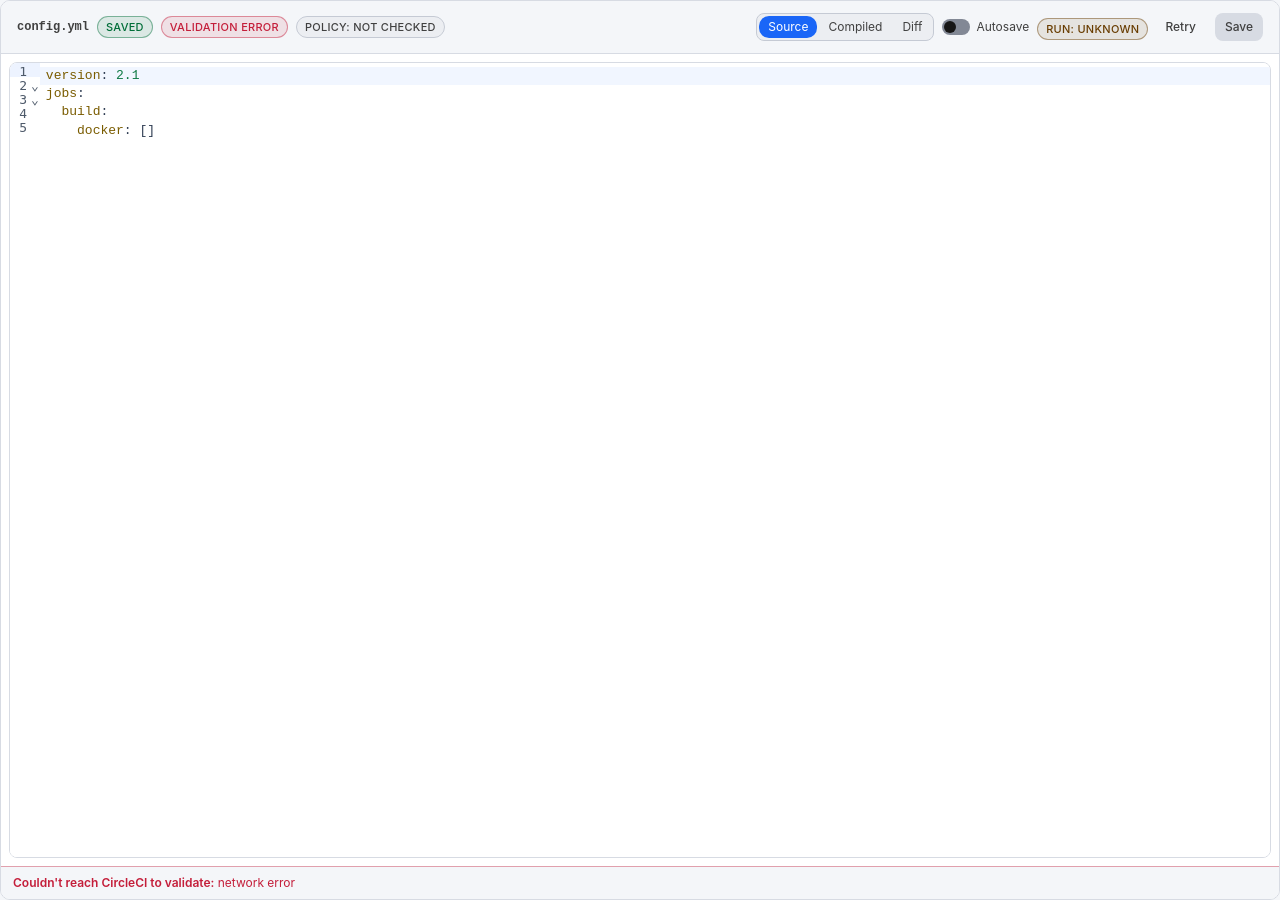
Test: YamlPane › reports a failed validation request distinctly from an invalid config
This screenshot has width=1280, height=900.
Click the button "Compiled". click: (856, 27)
box: [820, 16, 892, 38]
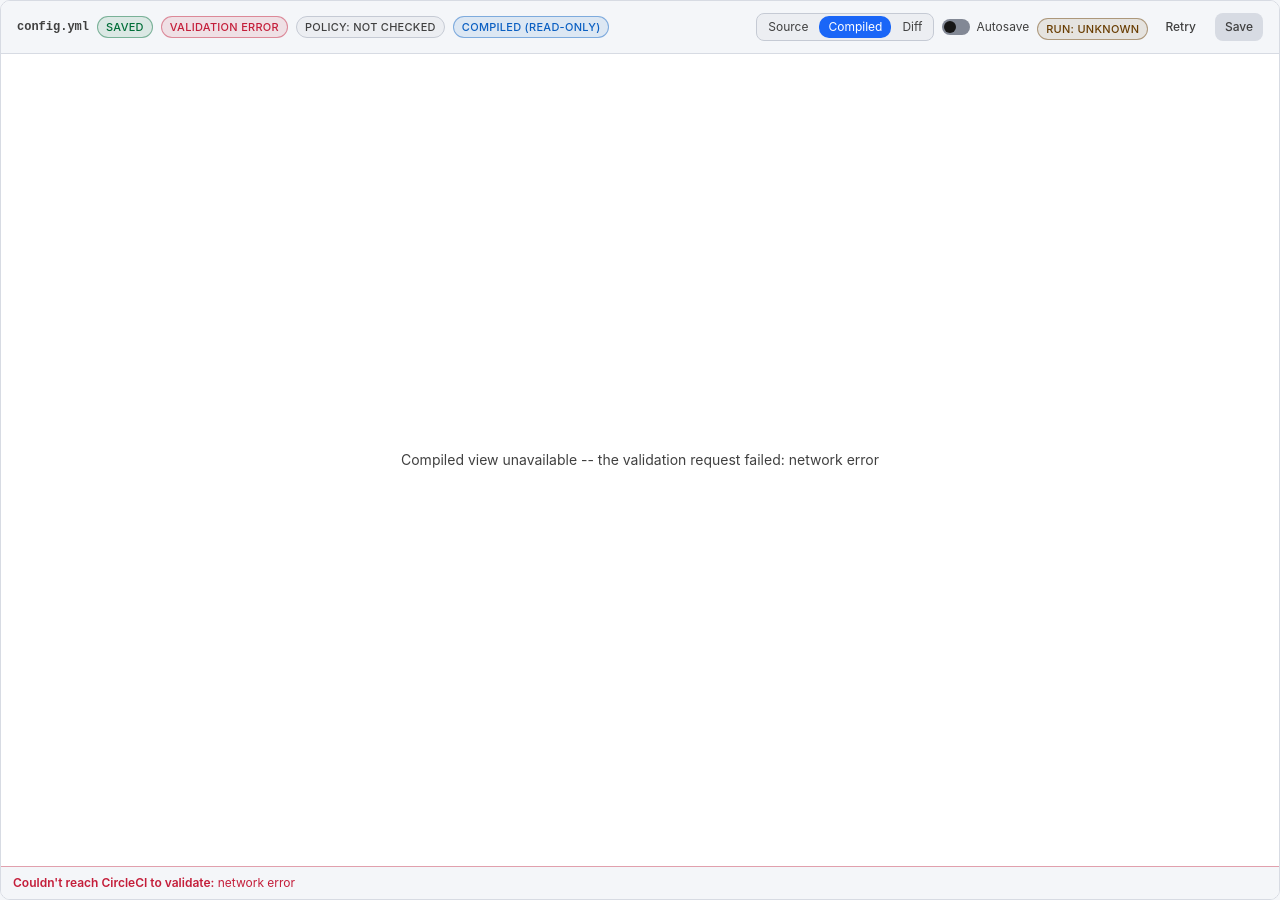
Expected: the text "Compiled view unavailable -- the validation request failed" is shown, [401, 451, 781, 468]
Expected: the text "network error" is shown, [781, 451, 879, 468]
